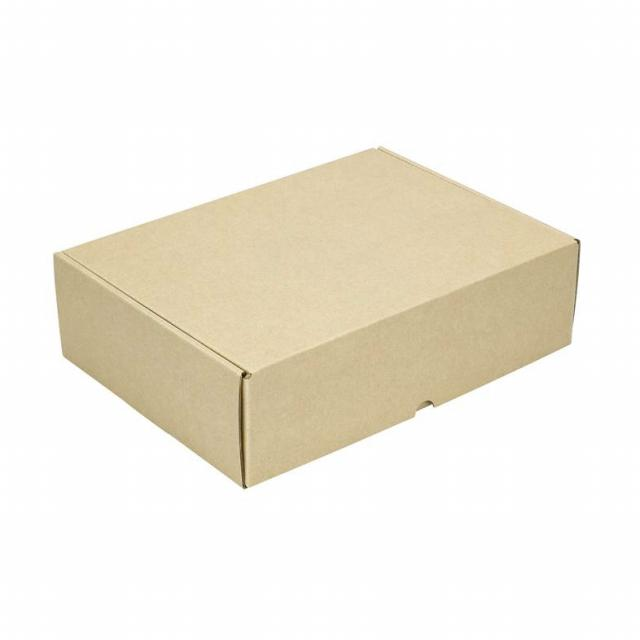box: (37, 116, 612, 524)
